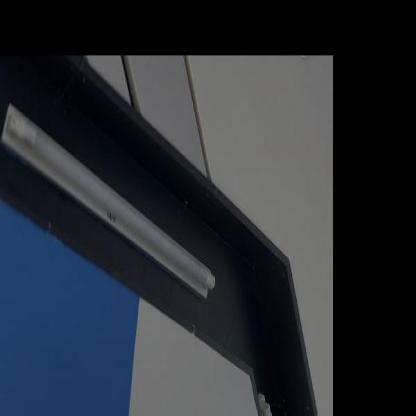light_off: (0, 98, 217, 305), (249, 376, 290, 414)
